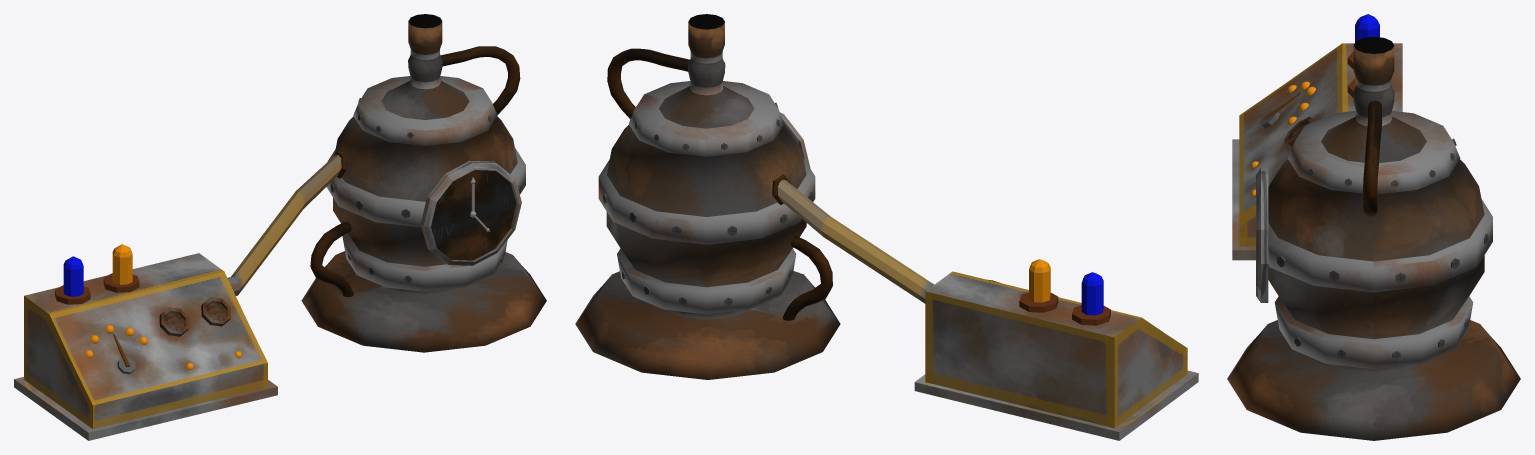
Rendered from Maschine 3+1.fbx.
3 renders of one model, left to right at view 1: azimuth 30°, elevation 25°; view 2: azimuth 150°, elevation 25°; view 3: azimuth 270°, elevation 25°, orthographic. The views are drawn at different scales.
Visible parts, largest first — view 1: Base, Cube, Anzeige, Cylinder.029, Rohr, Rohr.001, Cylinder.027, Cylinder.026, Cylinder.022, Cylinder.023; view 2: Base, Cube, Cylinder.029, Rohr, Rohr.001, Cylinder.026, Cylinder.027, Cylinder.002; view 3: Base, Cube, Anzeige, Rohr, Cylinder.002, Cylinder.026, Cylinder.022.
Boxes of the visible parts, x1,y1,x2,y2 form: Base: [301, 14, 546, 352]; Cube: [14, 253, 277, 440]; Anzeige: [420, 160, 521, 265]; Cylinder.029: [227, 152, 342, 295]; Rohr: [440, 46, 520, 114]; Rohr.001: [310, 221, 353, 296]; Cylinder.027: [112, 244, 132, 284]; Cylinder.026: [63, 256, 83, 296]; Cylinder.022: [159, 307, 189, 336]; Cylinder.023: [201, 297, 231, 326]; Base: [575, 14, 840, 379]; Cube: [914, 271, 1198, 440]; Cylinder.029: [777, 177, 934, 303]; Rohr: [607, 48, 689, 119]; Rohr.001: [783, 235, 832, 320]; Cylinder.026: [1081, 272, 1103, 315]; Cylinder.027: [1029, 259, 1050, 302]; Cylinder.002: [603, 102, 812, 305]; Base: [1227, 36, 1520, 440]; Cube: [1232, 43, 1402, 260]; Anzeige: [1256, 167, 1268, 302]; Rohr: [1363, 100, 1381, 216]; Cylinder.002: [1277, 138, 1488, 359]; Cylinder.026: [1355, 14, 1379, 42]; Cylinder.022: [1284, 117, 1315, 146].
Bounding box in the file's own units: 2293 × 1224 × 972.
